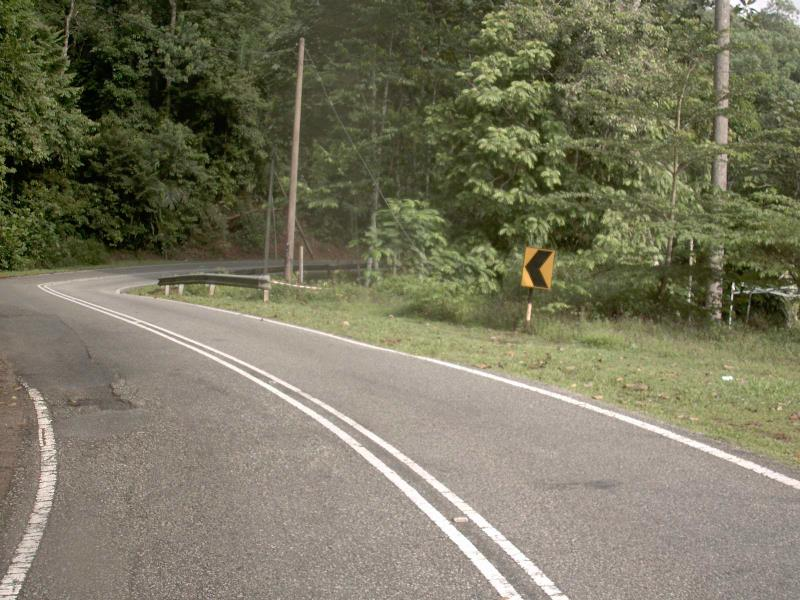traffic_sign: (512, 237, 562, 300)
